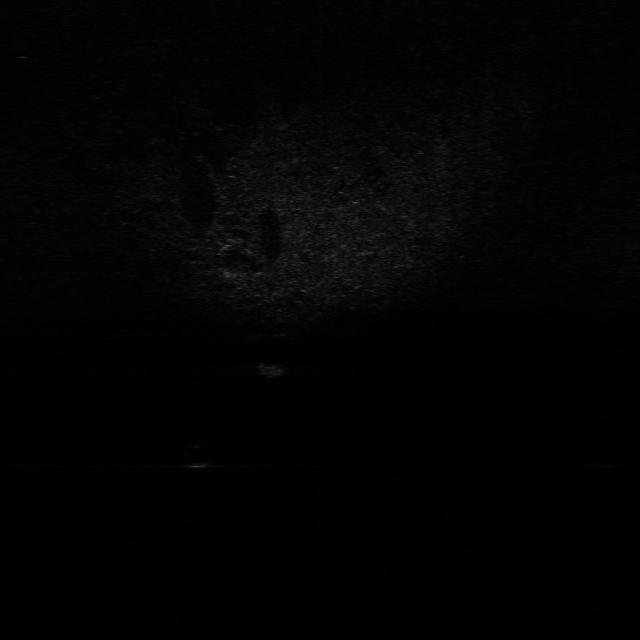ball: (180, 442, 216, 470)
cube: (250, 358, 290, 382)
